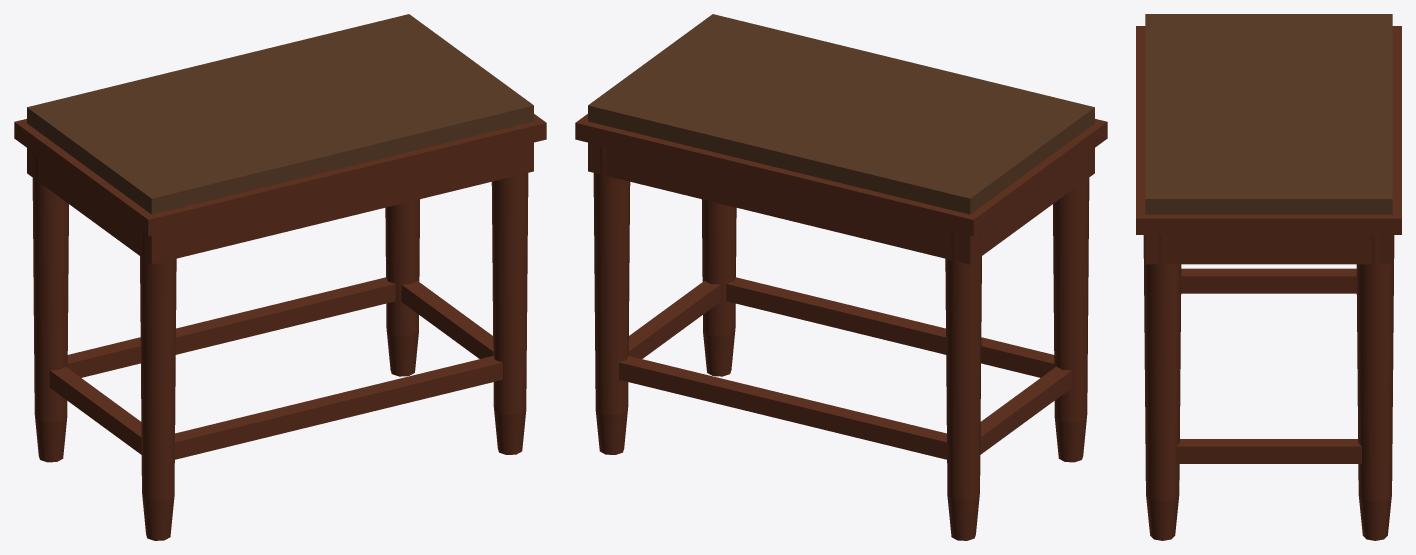
Rendered from parametric-piano-stool-2nd-pub.glb.
3 renders of one model, left to right at view 1: azimuth 30°, elevation 25°; view 2: azimuth 150°, elevation 25°; view 3: azimuth 270°, elevation 25°, orthographic.
Visible parts, largest first — view 1: parametric-piano-stool-2nd-pub; view 2: parametric-piano-stool-2nd-pub; view 3: parametric-piano-stool-2nd-pub.
Boxes of the visible parts, x1,y1,x2,y2 form: parametric-piano-stool-2nd-pub: (14,14,546,540); parametric-piano-stool-2nd-pub: (575,14,1107,540); parametric-piano-stool-2nd-pub: (1136,14,1401,540).
Size of the model in its own units: 0.6 by 0.5 by 0.35.
